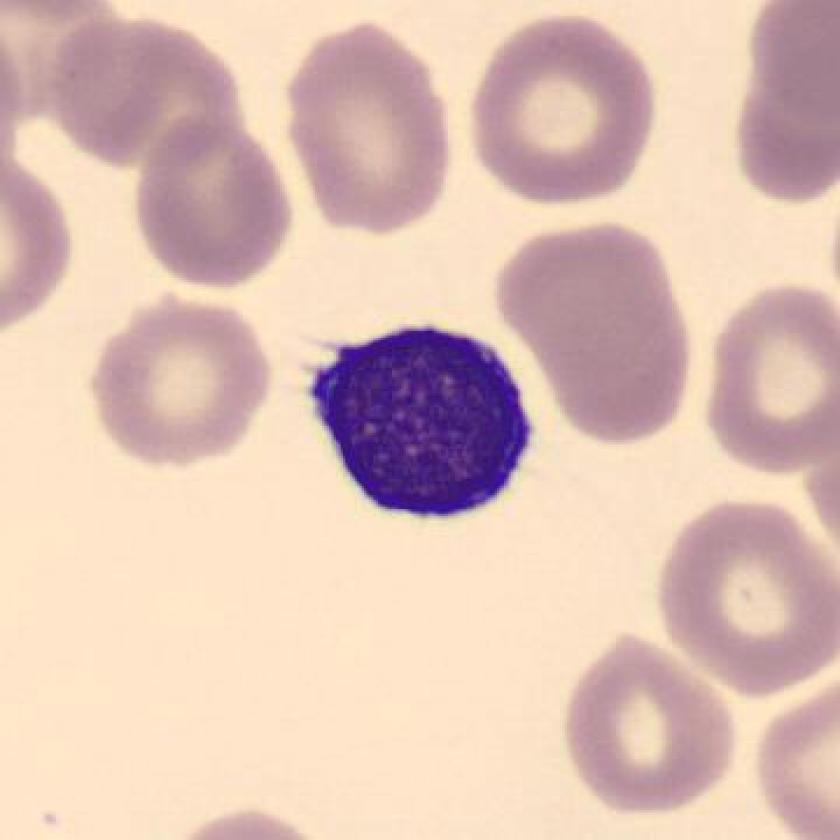lymphocyte: (293, 304, 549, 538)
